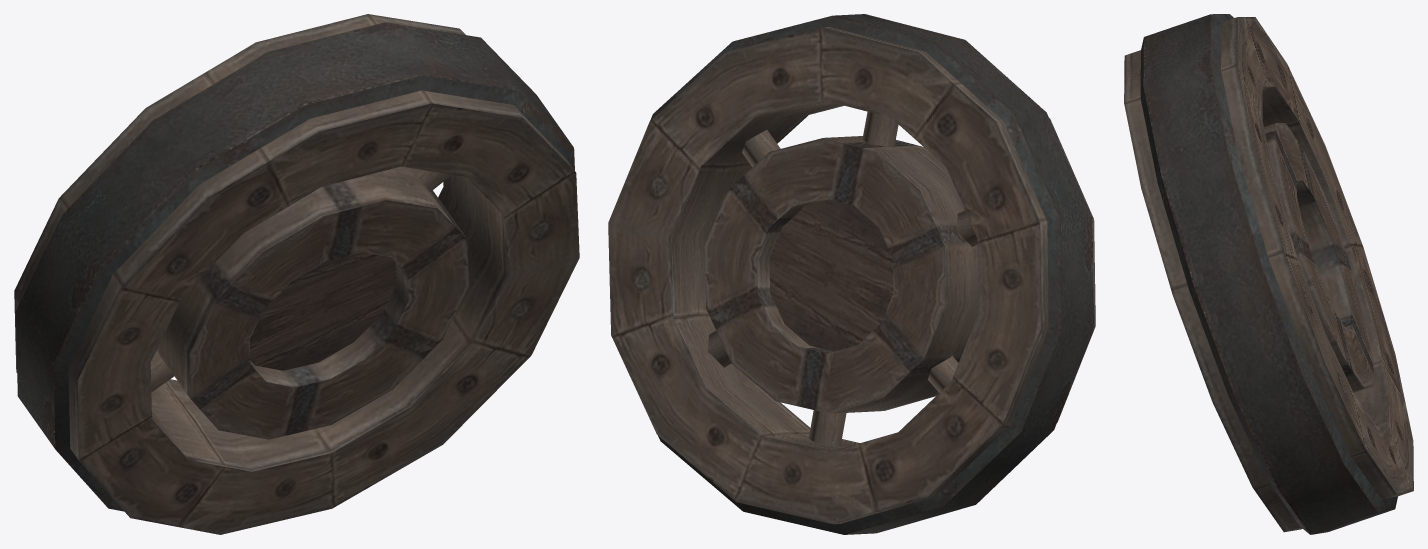
The model's file is chilun001.FBX.
3 views of the same model, side by side, from view 1: azimuth 30°, elevation 25°; view 2: azimuth 150°, elevation 25°; view 3: azimuth 270°, elevation 25° (orthographic). The views are drawn at different scales.
Visible parts, largest first — view 1: townoutside_model_02_chelun001; view 2: townoutside_model_02_chelun001; view 3: townoutside_model_02_chelun001.
Part boxes in pixels (box(x1,y1,x2,y2)): townoutside_model_02_chelun001: box(14, 14, 579, 534); townoutside_model_02_chelun001: box(608, 14, 1095, 534); townoutside_model_02_chelun001: box(1124, 14, 1413, 534).
Bounding box in the file's own units: 0.4706 × 0.4502 × 0.2525.
